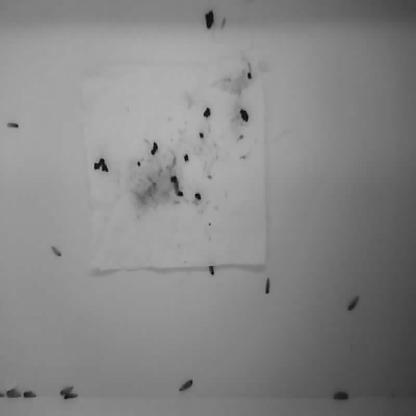PtecticusTenebrifer: (344, 293, 363, 314), (177, 378, 195, 394), (60, 386, 78, 401), (50, 242, 64, 260), (4, 119, 22, 133), (332, 391, 352, 402), (23, 388, 39, 401), (265, 277, 274, 297)
